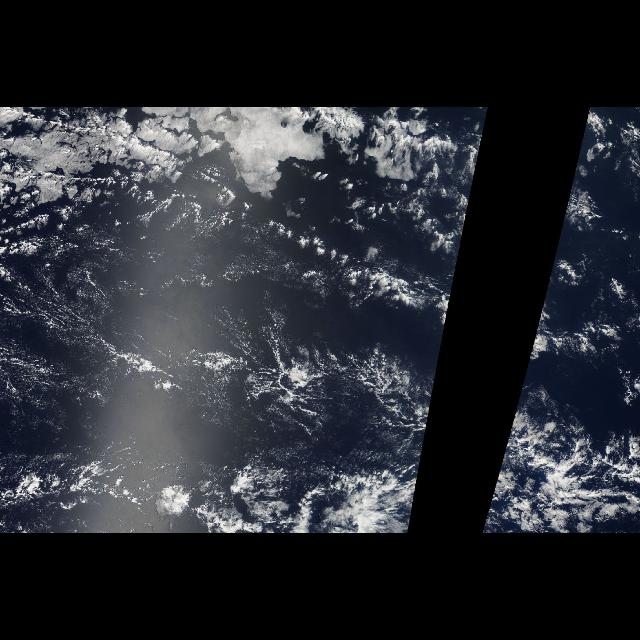Fish: (222, 338, 443, 530), (480, 338, 640, 530)
Sugar: (2, 262, 252, 438)
